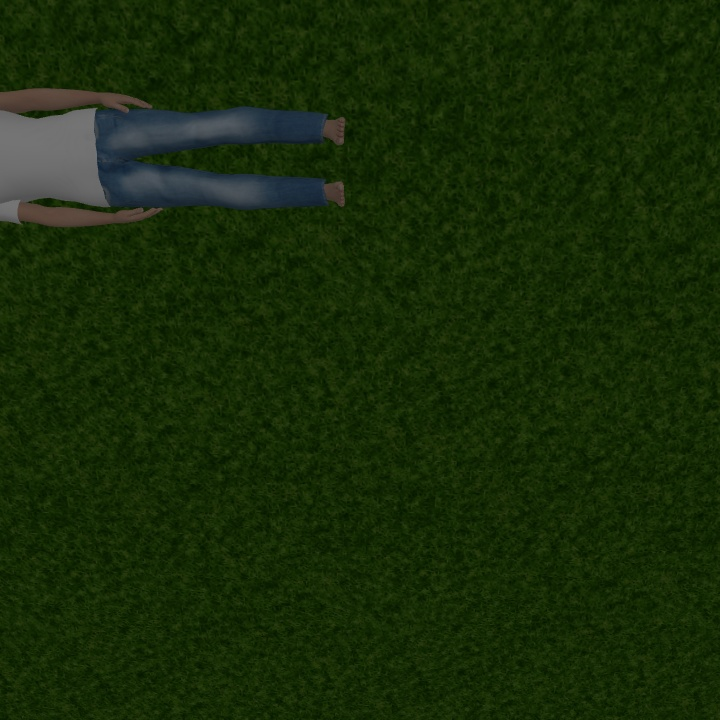victim: (1, 81, 351, 231)
